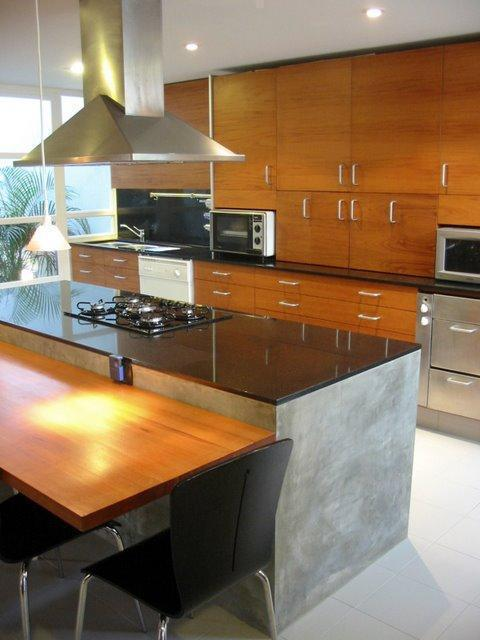Electrodomestico: (61, 281, 240, 345)
